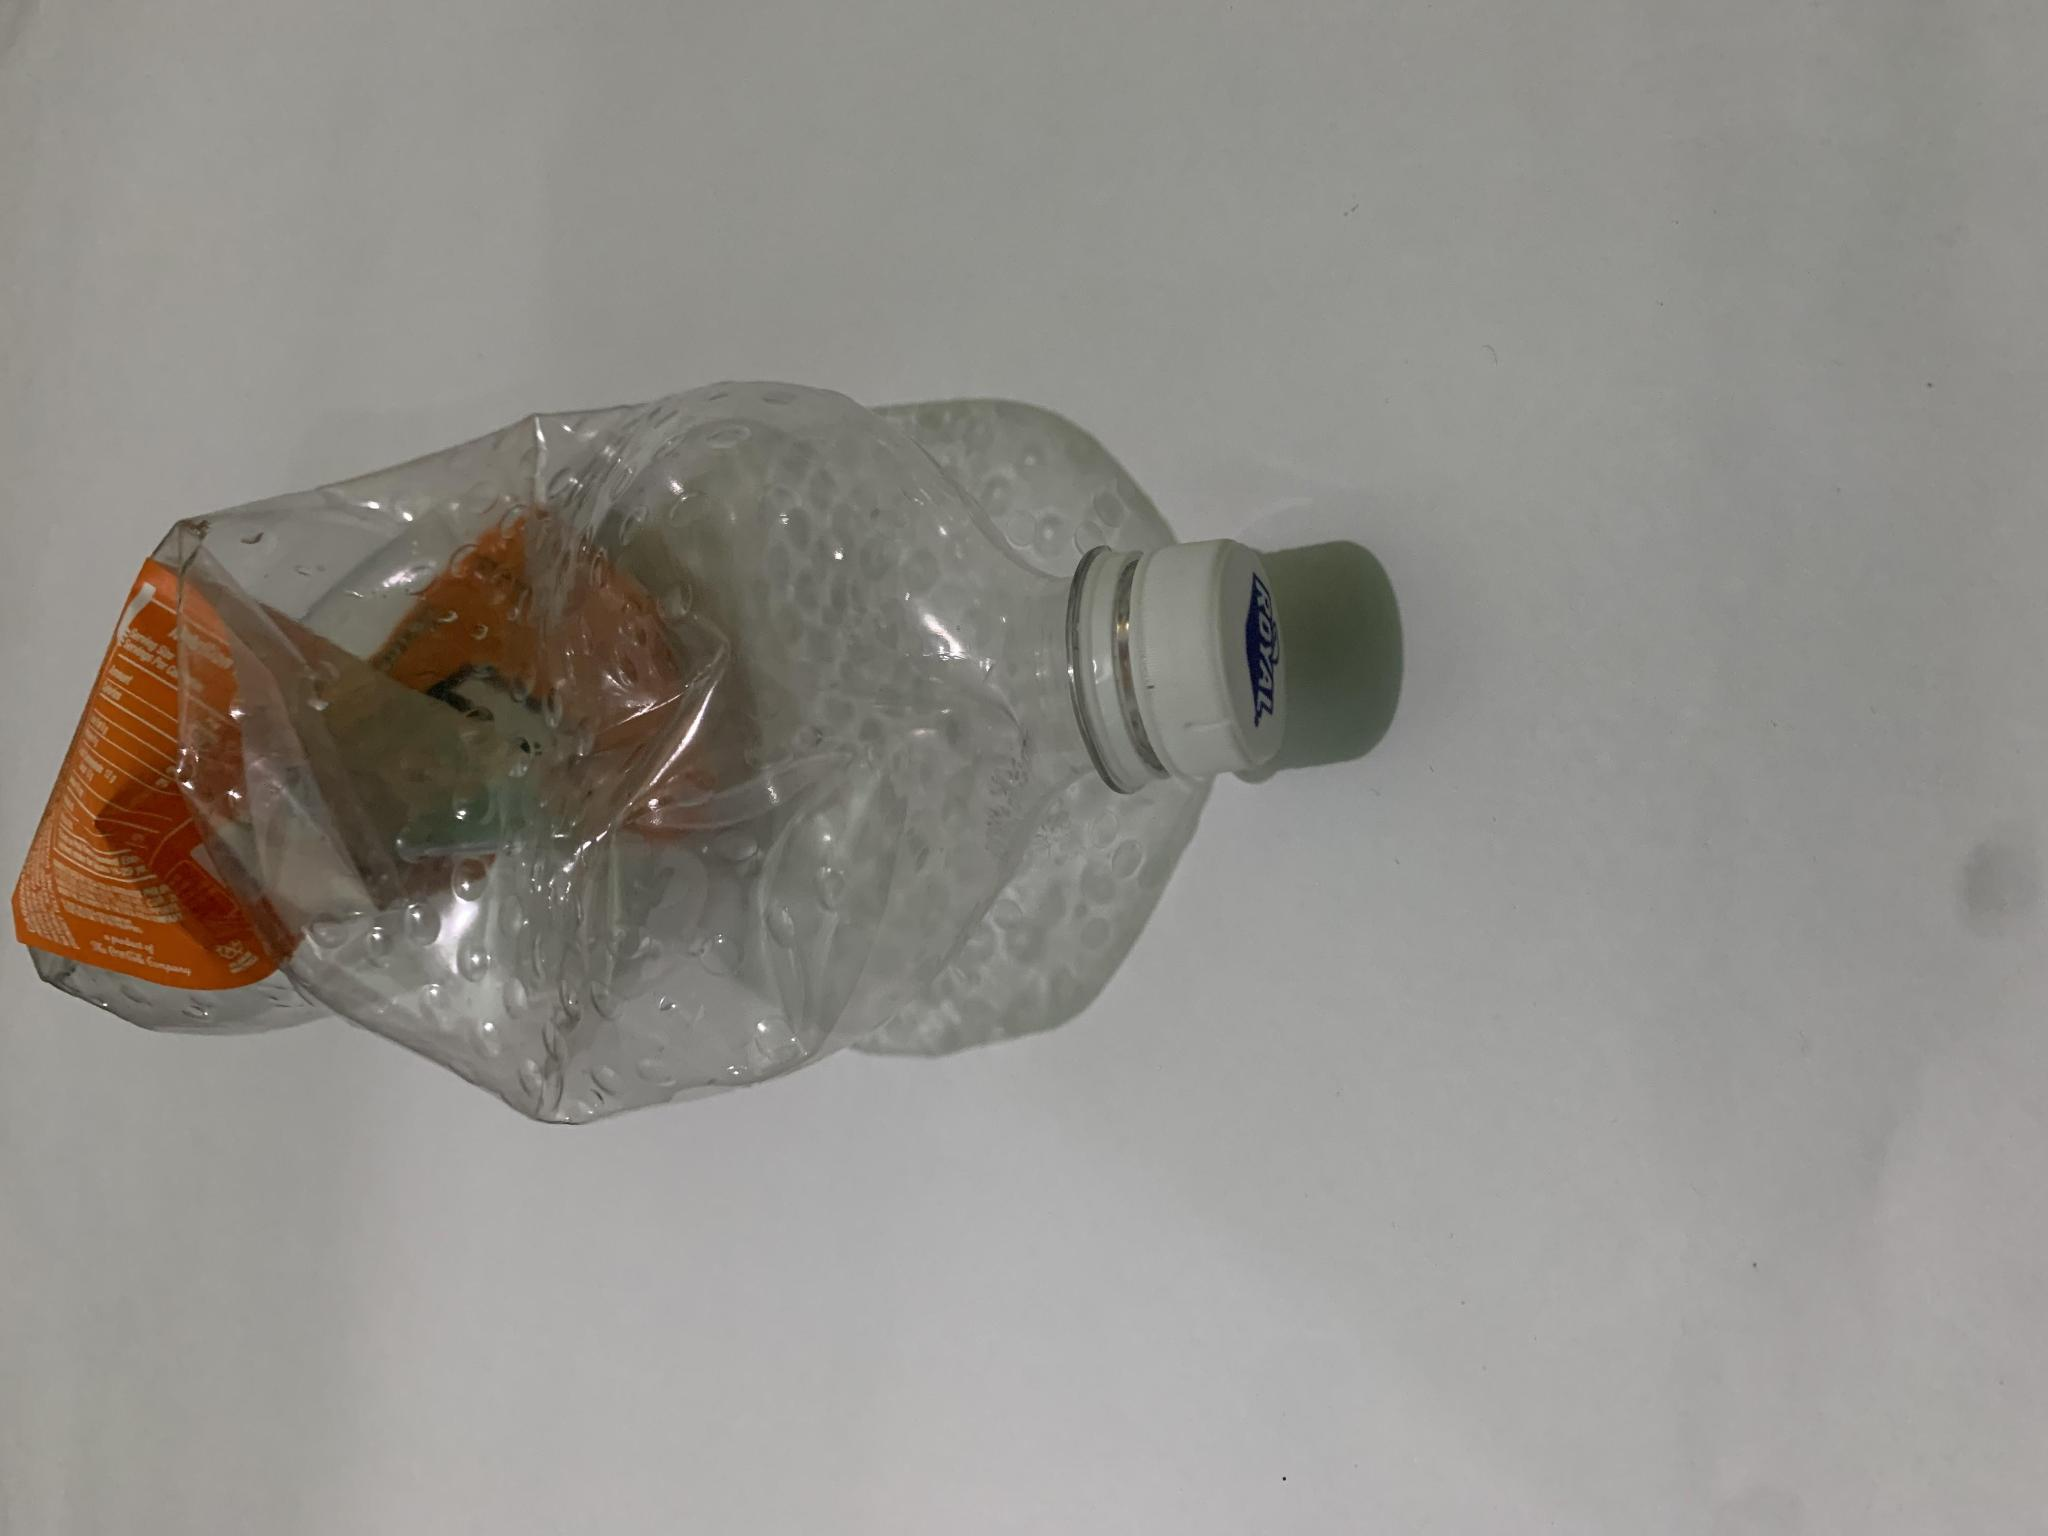bottle: (4, 248, 1412, 1218)
